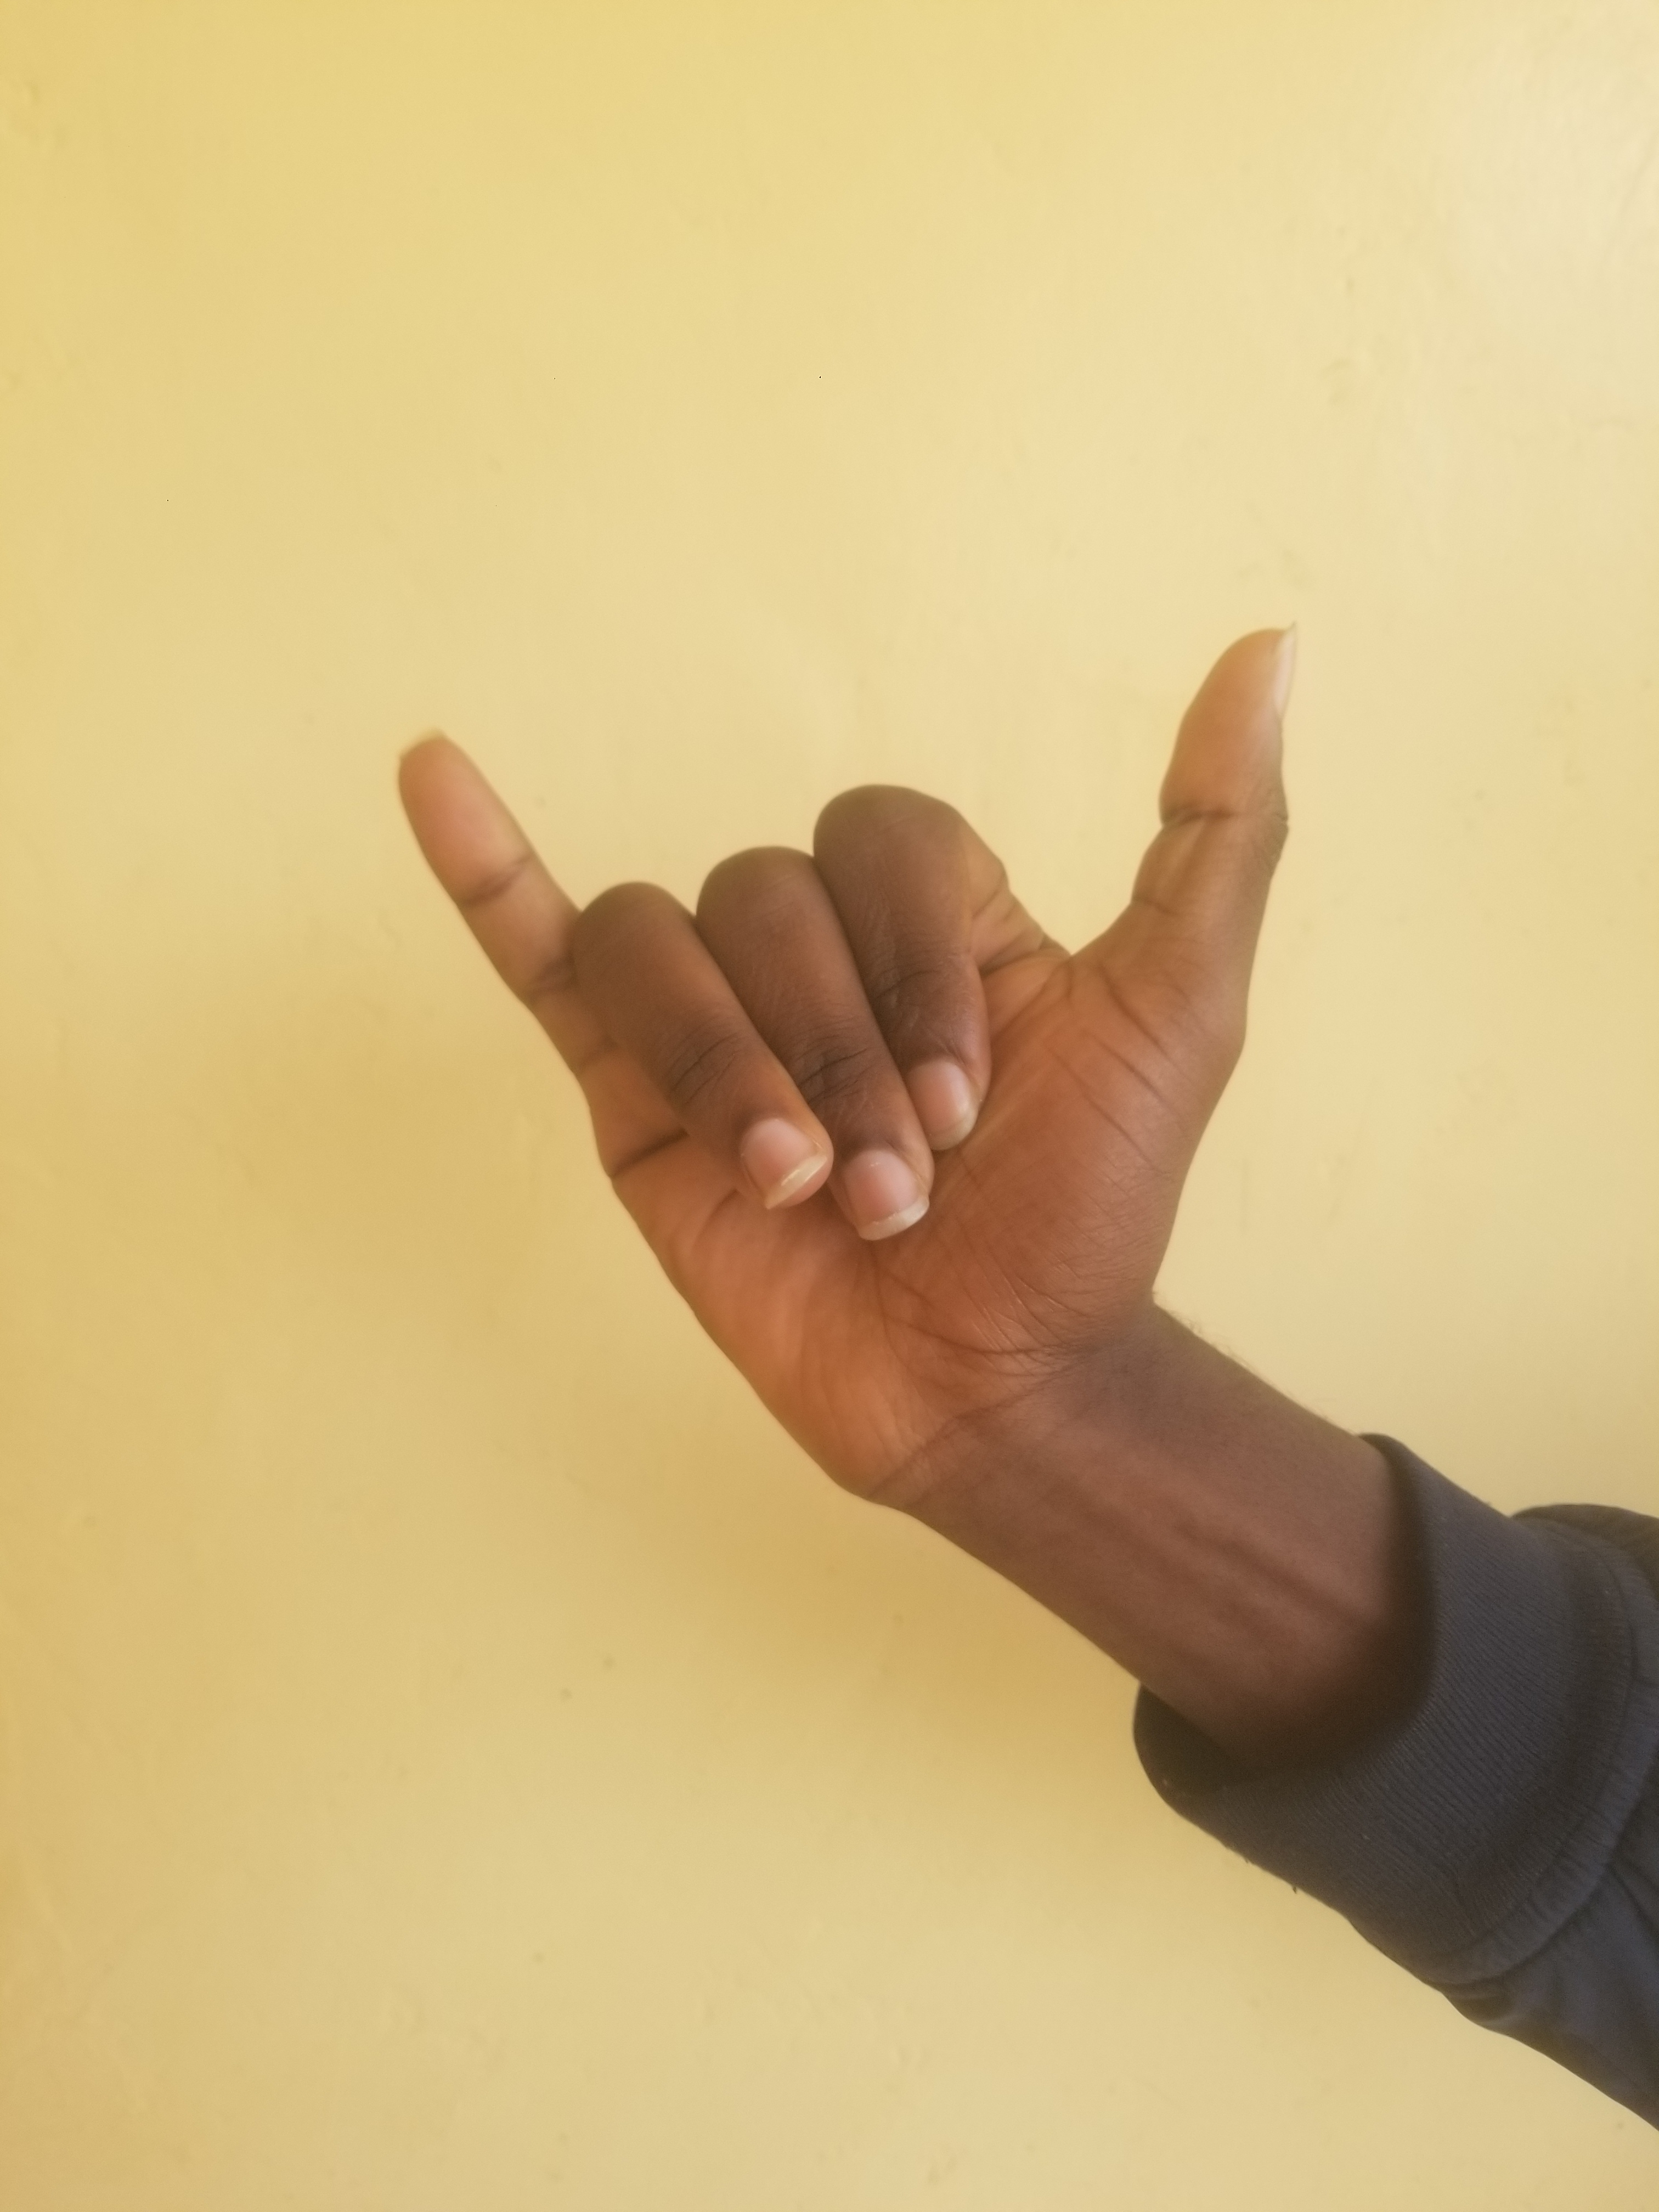call: (232, 523, 1500, 1693)
